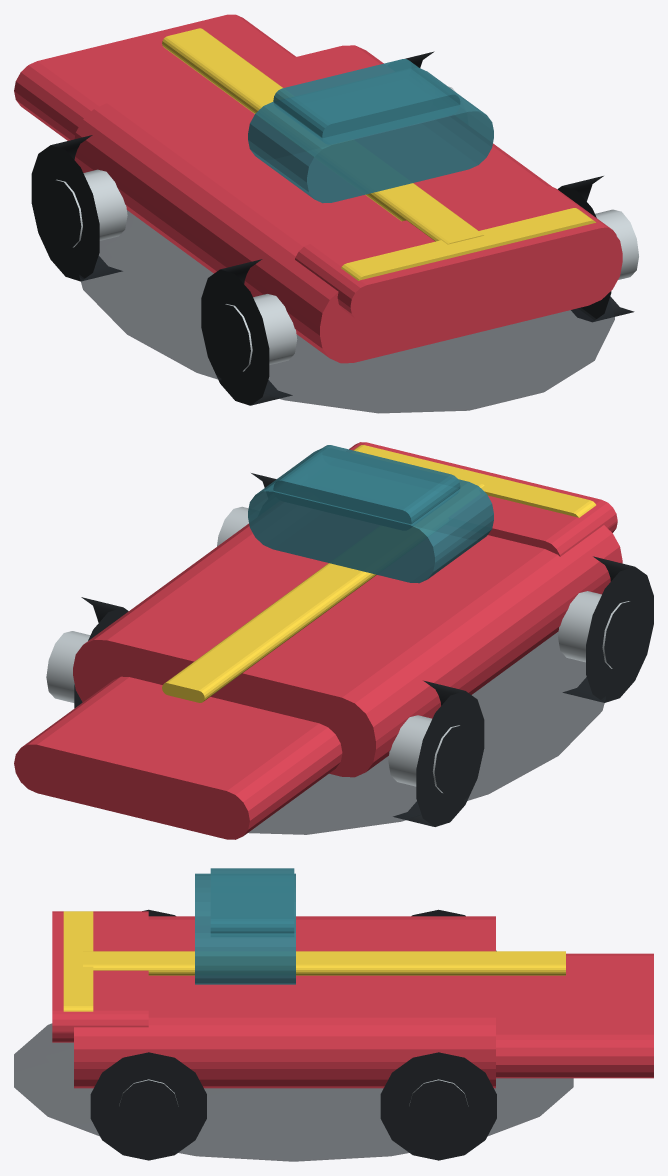
File: kart.glb
3 renders of one model, top to bottom at view 1: azimuth 30°, elevation 25°; view 2: azimuth 150°, elevation 25°; view 3: azimuth 270°, elevation 25°, orthographic. The views are drawn at different scales.
Parts seen in each view (by area): view 1: paint_body, contact_shadow, visor, tyres, paint_stripe, rims; view 2: paint_body, visor, contact_shadow, tyres, paint_stripe, rims; view 3: paint_body, contact_shadow, tyres, paint_stripe, visor.
Boxes of the visible parts, x1,y1,x2,y2 form: paint_body: (14, 14, 622, 363); contact_shadow: (79, 210, 614, 413); visor: (248, 59, 493, 203); tyres: (31, 51, 634, 405); paint_stripe: (162, 28, 595, 280); rims: (56, 86, 638, 371); paint_body: (14, 442, 622, 839); visor: (248, 445, 493, 583); contact_shadow: (248, 631, 605, 834); tyres: (74, 473, 653, 826); paint_stripe: (162, 445, 595, 702); rims: (46, 506, 629, 792); paint_body: (52, 911, 653, 1088); contact_shadow: (14, 1023, 573, 1161); tyres: (90, 909, 496, 1160); paint_stripe: (63, 911, 565, 1011); visor: (195, 868, 295, 984).
Size of the model in its own units: 4.85 by 2.34 by 7.28.
